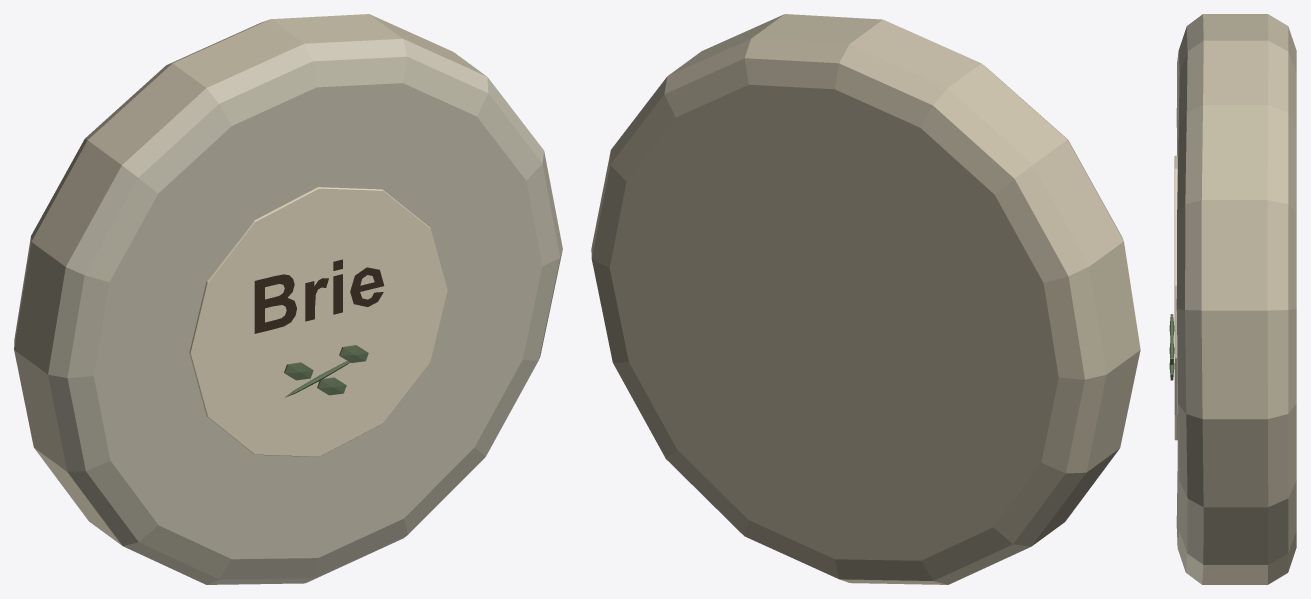
Rendered from brie.glb.
The picture shows the model from 3 angles, left to right: view 1: azimuth 30°, elevation 25°; view 2: azimuth 150°, elevation 25°; view 3: azimuth 270°, elevation 25°; orthographic projection. The views are drawn at different scales.
Parts seen in each view (by area): view 1: brie; view 2: brie; view 3: brie.
Boxes of the visible parts, x1,y1,x2,y2 form: brie: [14, 14, 562, 584]; brie: [591, 14, 1140, 584]; brie: [1169, 14, 1296, 584].
Size of the model in its own units: 0.14 by 0.14 by 0.0311.
